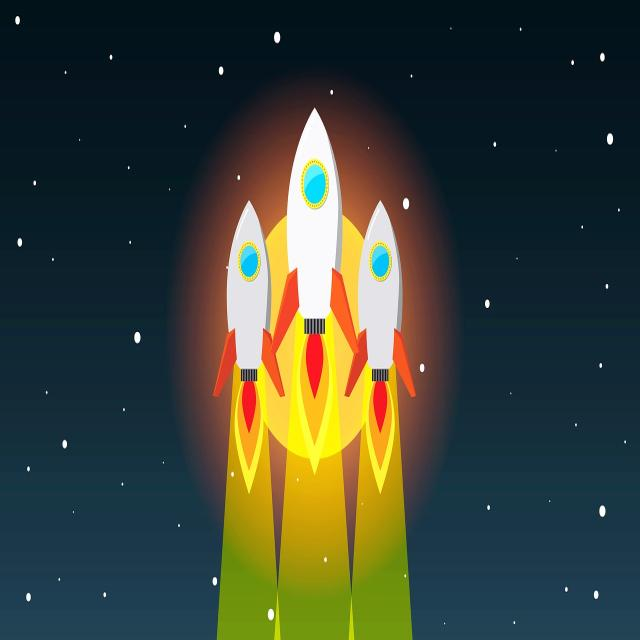medium_debris: (294, 320, 338, 472), (232, 371, 266, 495), (364, 376, 398, 496)
rocket: (274, 104, 357, 372), (347, 186, 416, 403), (215, 200, 283, 404)
